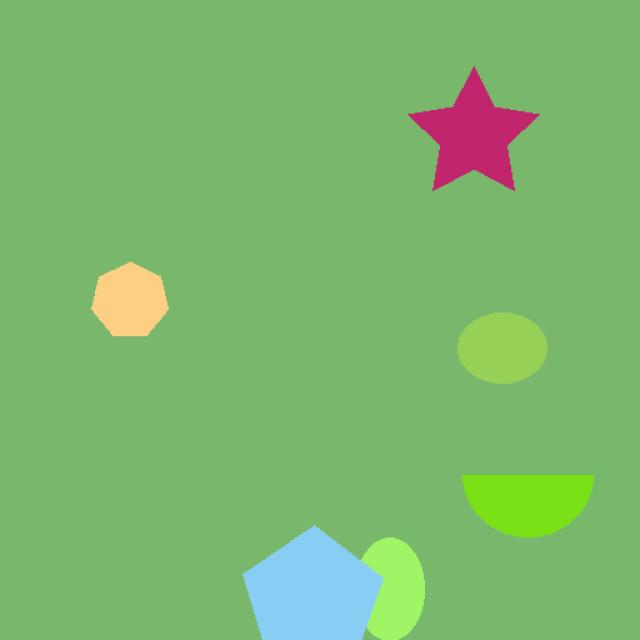Circle: (346, 521, 447, 640)
Heptagon: (65, 246, 193, 361)
Oval: (442, 307, 562, 399)
Pentagon: (197, 505, 394, 640)
Semicircle: (446, 460, 622, 547)
Star: (393, 55, 554, 224)
